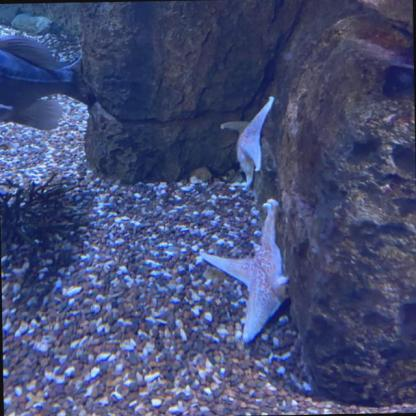fish: (0, 31, 87, 117)
starfish: (209, 201, 292, 340), (220, 95, 275, 190)
